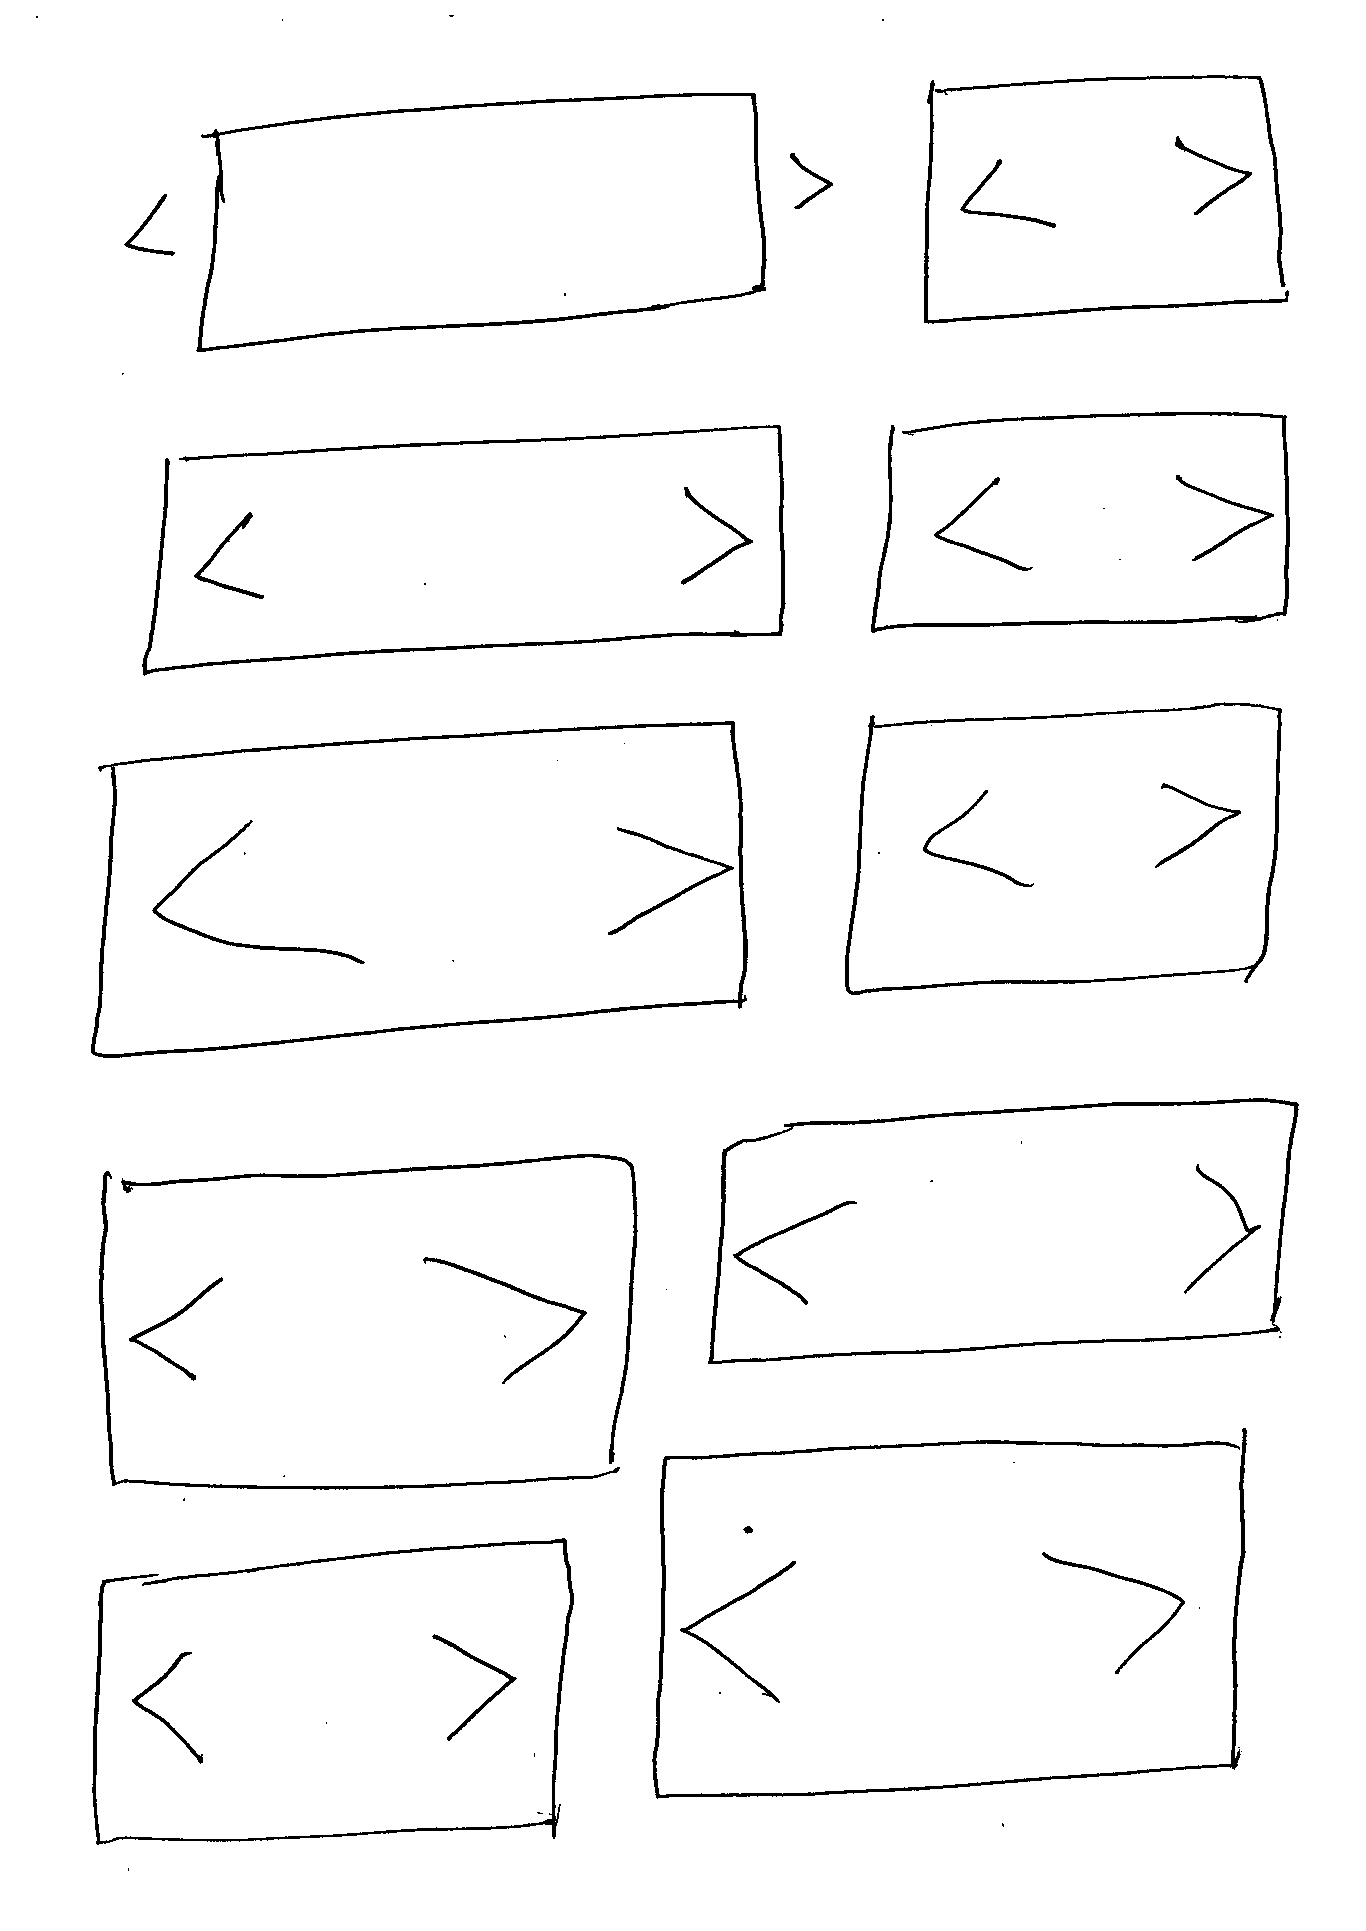Carousel: (87, 717, 751, 1062), (650, 1442, 1249, 1802), (118, 87, 835, 356), (98, 1150, 642, 1492), (137, 421, 789, 677), (704, 1097, 1301, 1368), (89, 1536, 577, 1847), (841, 699, 1285, 997), (866, 411, 1291, 636), (920, 72, 1292, 327)
